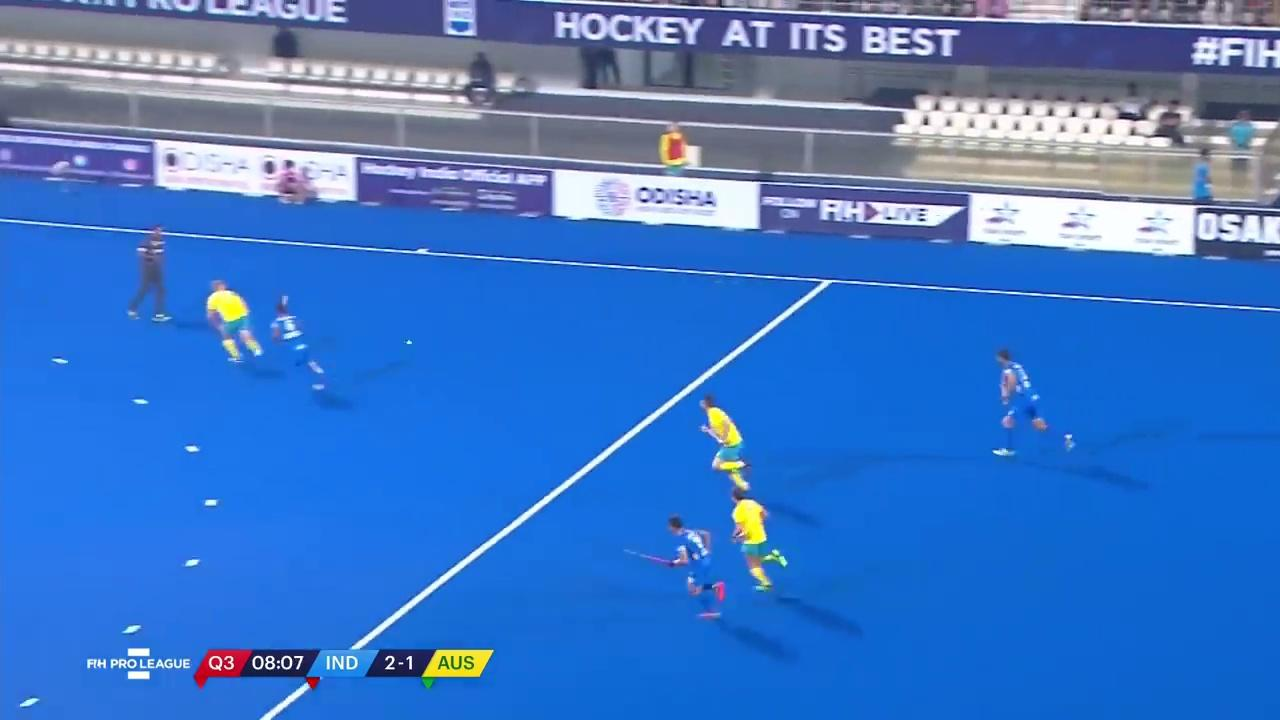ball: (400, 336, 416, 348)
